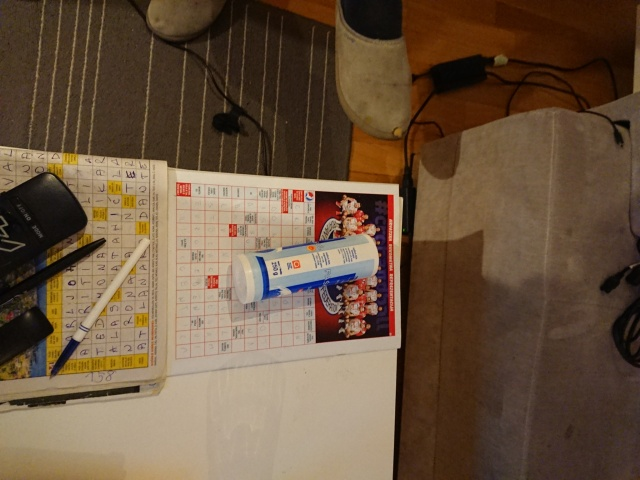Solana Pag Fine Sea Salt 250g: (228, 230, 382, 307)
